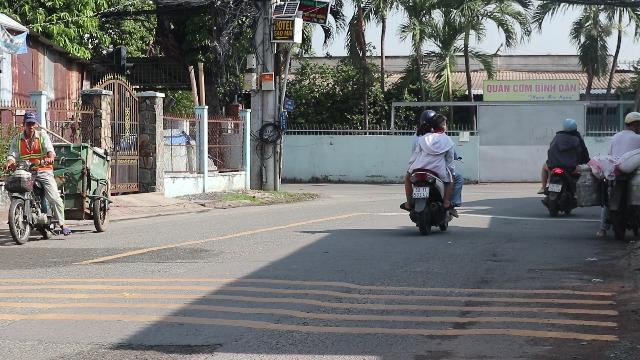helmet: (22, 110, 40, 132), (624, 111, 640, 131), (418, 110, 436, 126)
licenseplate: (412, 187, 428, 197)
motorcyclist: (0, 107, 66, 243), (398, 108, 464, 233), (601, 110, 639, 240)
nohelmet: (429, 113, 447, 133)
